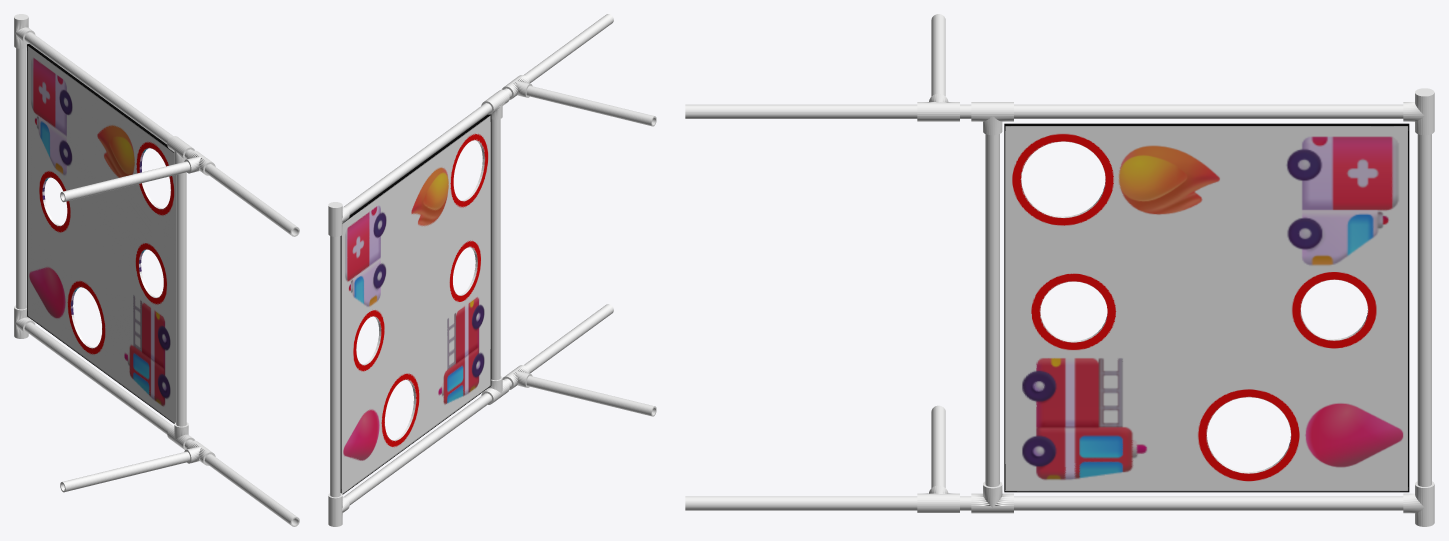
The model's file is torpboard_v2.obj.
3 views of the same model, side by side, from view 1: azimuth 30°, elevation 25°; view 2: azimuth 150°, elevation 25°; view 3: azimuth 270°, elevation 25° (orthographic). The views are drawn at different scales.
Visible parts, largest first — view 1: torpboard_v2; view 2: torpboard_v2; view 3: torpboard_v2.
Part boxes in pixels (x1=…): torpboard_v2: x1=14, y1=14, x2=299, y2=526; torpboard_v2: x1=328, y1=14, x2=656, y2=526; torpboard_v2: x1=685, y1=14, x2=1434, y2=526.
Bounding box in the file's own units: 0.3347 × 0.7035 × 1.11.
1 material, 1 textured.
